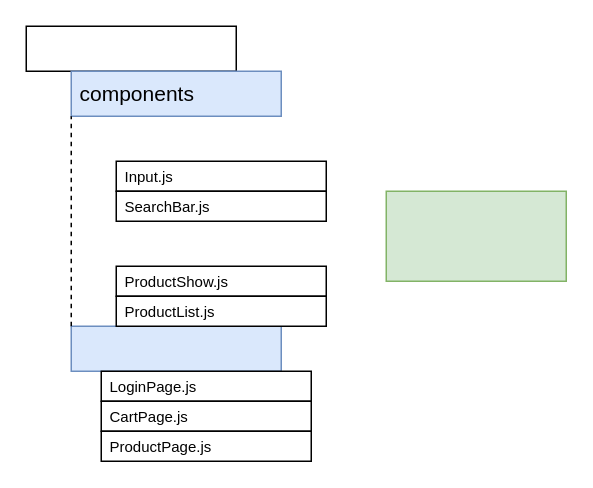
The diagram is 593 pixels wide and 488 high, and some of its shapes have lost their labels. The shapes that lost their labels are listed below. From the top down, each one's centre as x and y in pixels, then its label:
the point at 130,48: src/
the point at 475,235: Add more organization with subfolders
the point at 175,348: pages
